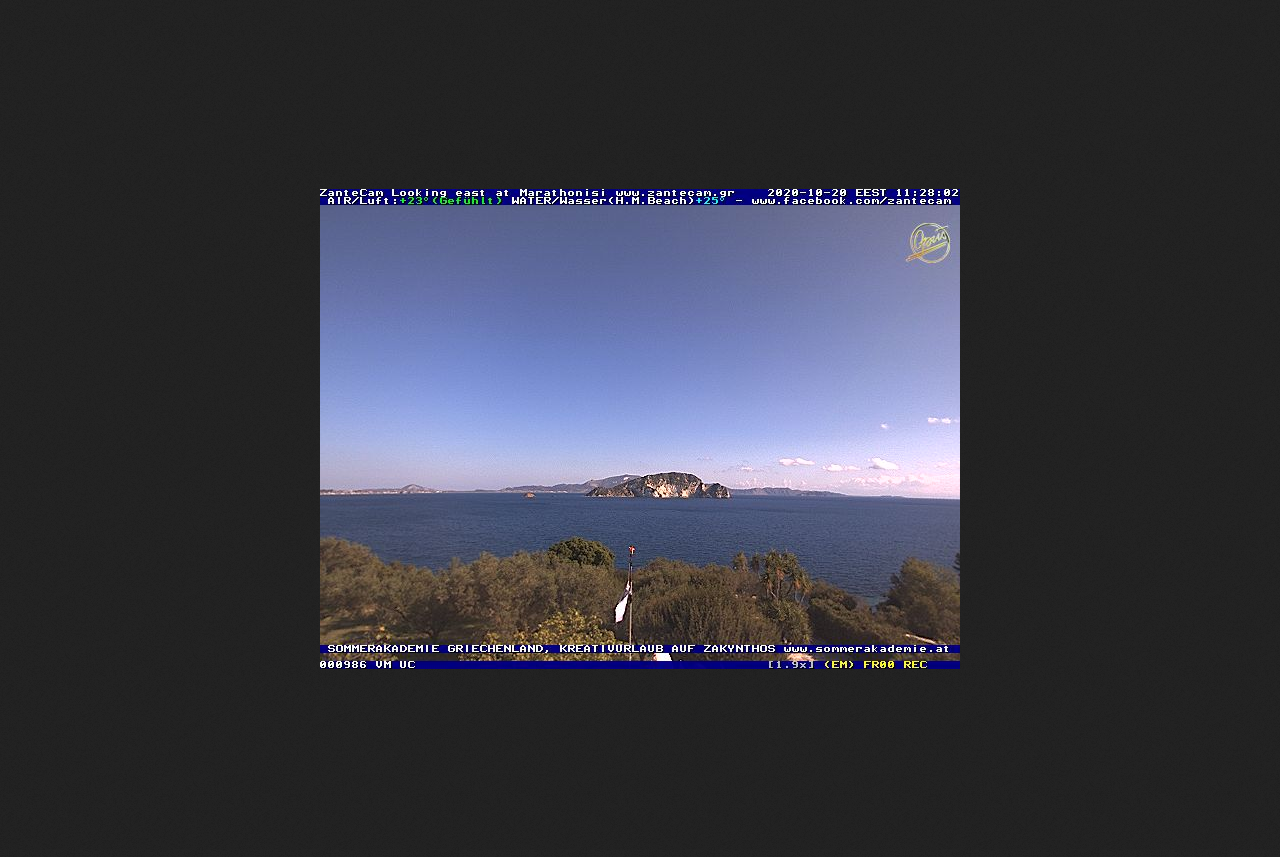maybe: (614, 571, 630, 627)
